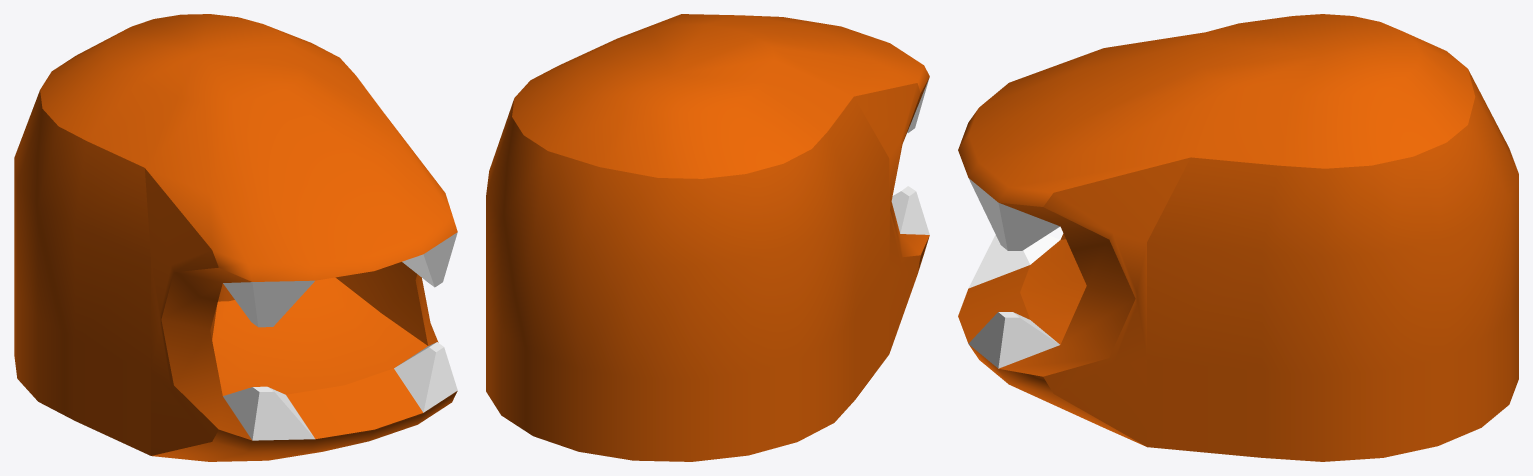
Rendered from EnnemyTemp.fbx.
The picture shows the model from 3 angles, left to right: view 1: azimuth 30°, elevation 25°; view 2: azimuth 150°, elevation 25°; view 3: azimuth 270°, elevation 25°; orthographic projection. The views are drawn at different scales.
Parts seen in each view (by area): view 1: polySurface1, polySurface2, polySurface3, polySurface4, polySurface5; view 2: polySurface1, polySurface2; view 3: polySurface1, polySurface3, polySurface5, polySurface2.
Part boxes in pixels (<box>): polySurface1: <box>14,14,457,461</box>; polySurface2: <box>223,386,314,440</box>; polySurface3: <box>394,342,457,412</box>; polySurface4: <box>223,280,314,327</box>; polySurface5: <box>402,232,457,287</box>; polySurface1: <box>486,14,929,461</box>; polySurface2: <box>891,186,929,234</box>; polySurface1: <box>958,14,1518,461</box>; polySurface3: <box>968,312,1059,368</box>; polySurface5: <box>968,178,1059,250</box>; polySurface2: <box>968,234,1059,288</box>.
Bounding box in the file's own units: 1 × 1 × 1.43.
